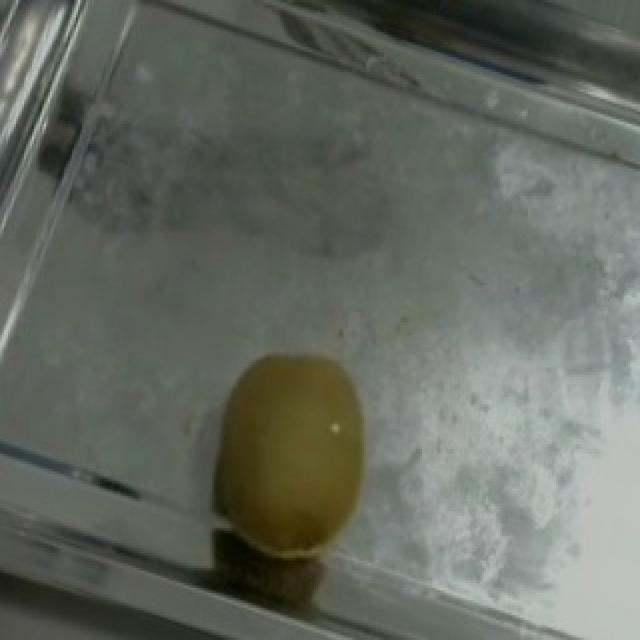Fruit: (170, 317, 410, 593)
